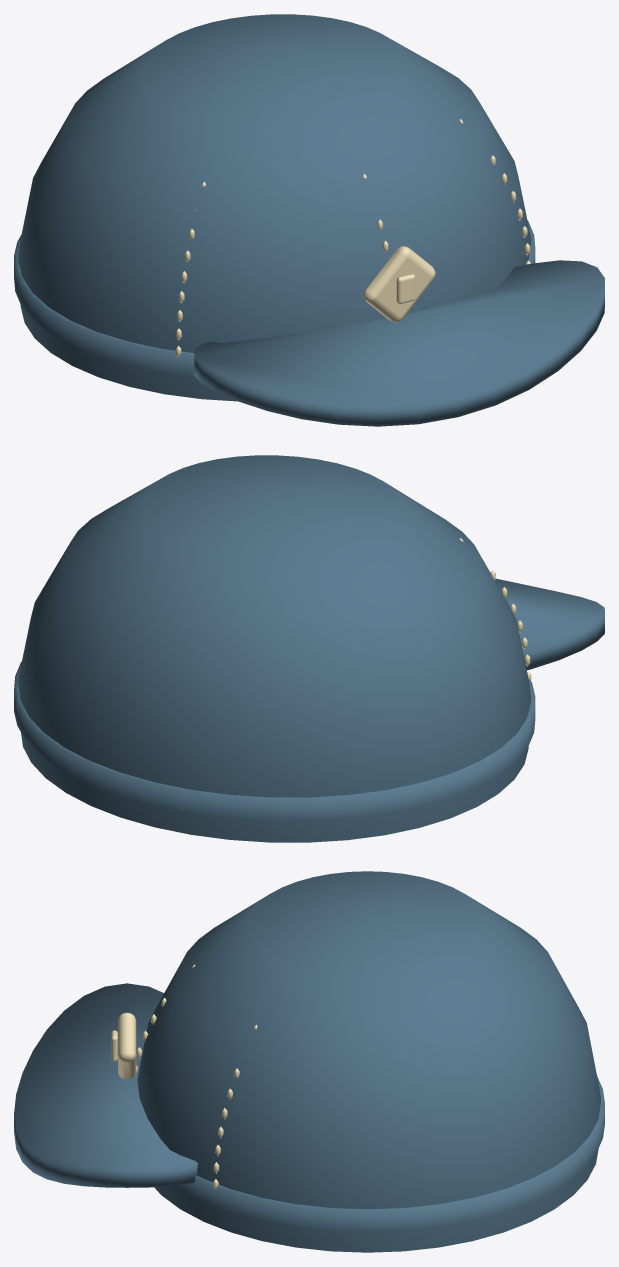
File: 03-blue-hour-cap.glb
The picture shows the model from 3 angles, top to bottom: view 1: azimuth 30°, elevation 25°; view 2: azimuth 150°, elevation 25°; view 3: azimuth 270°, elevation 25°; orthographic projection. The views are drawn at different scales.
Parts seen in each view (by area): view 1: Hat03_Crown1, Hat03_Visor2, Hat03_Band3, Hat03_Badge31; view 2: Hat03_Crown1, Hat03_Band3, Hat03_Visor2; view 3: Hat03_Crown1, Hat03_Visor2, Hat03_Band3, Hat03_Badge31.
Part boxes in pixels (<box>): Hat03_Crown1: <box>18,14,531,401</box>; Hat03_Visor2: <box>194,260,604,426</box>; Hat03_Band3: <box>14,220,535,376</box>; Hat03_Badge31: <box>363,246,435,322</box>; Hat03_Crown1: <box>18,455,531,842</box>; Hat03_Band3: <box>14,661,535,821</box>; Hat03_Visor2: <box>495,578,604,670</box>; Hat03_Crown1: <box>137,871,600,1252</box>; Hat03_Visor2: <box>14,983,197,1187</box>; Hat03_Band3: <box>173,1076,604,1232</box>; Hat03_Badge31: <box>118,1012,136,1078</box>.
Size of the model in its own units: 0.616 by 0.315 by 0.7128.
